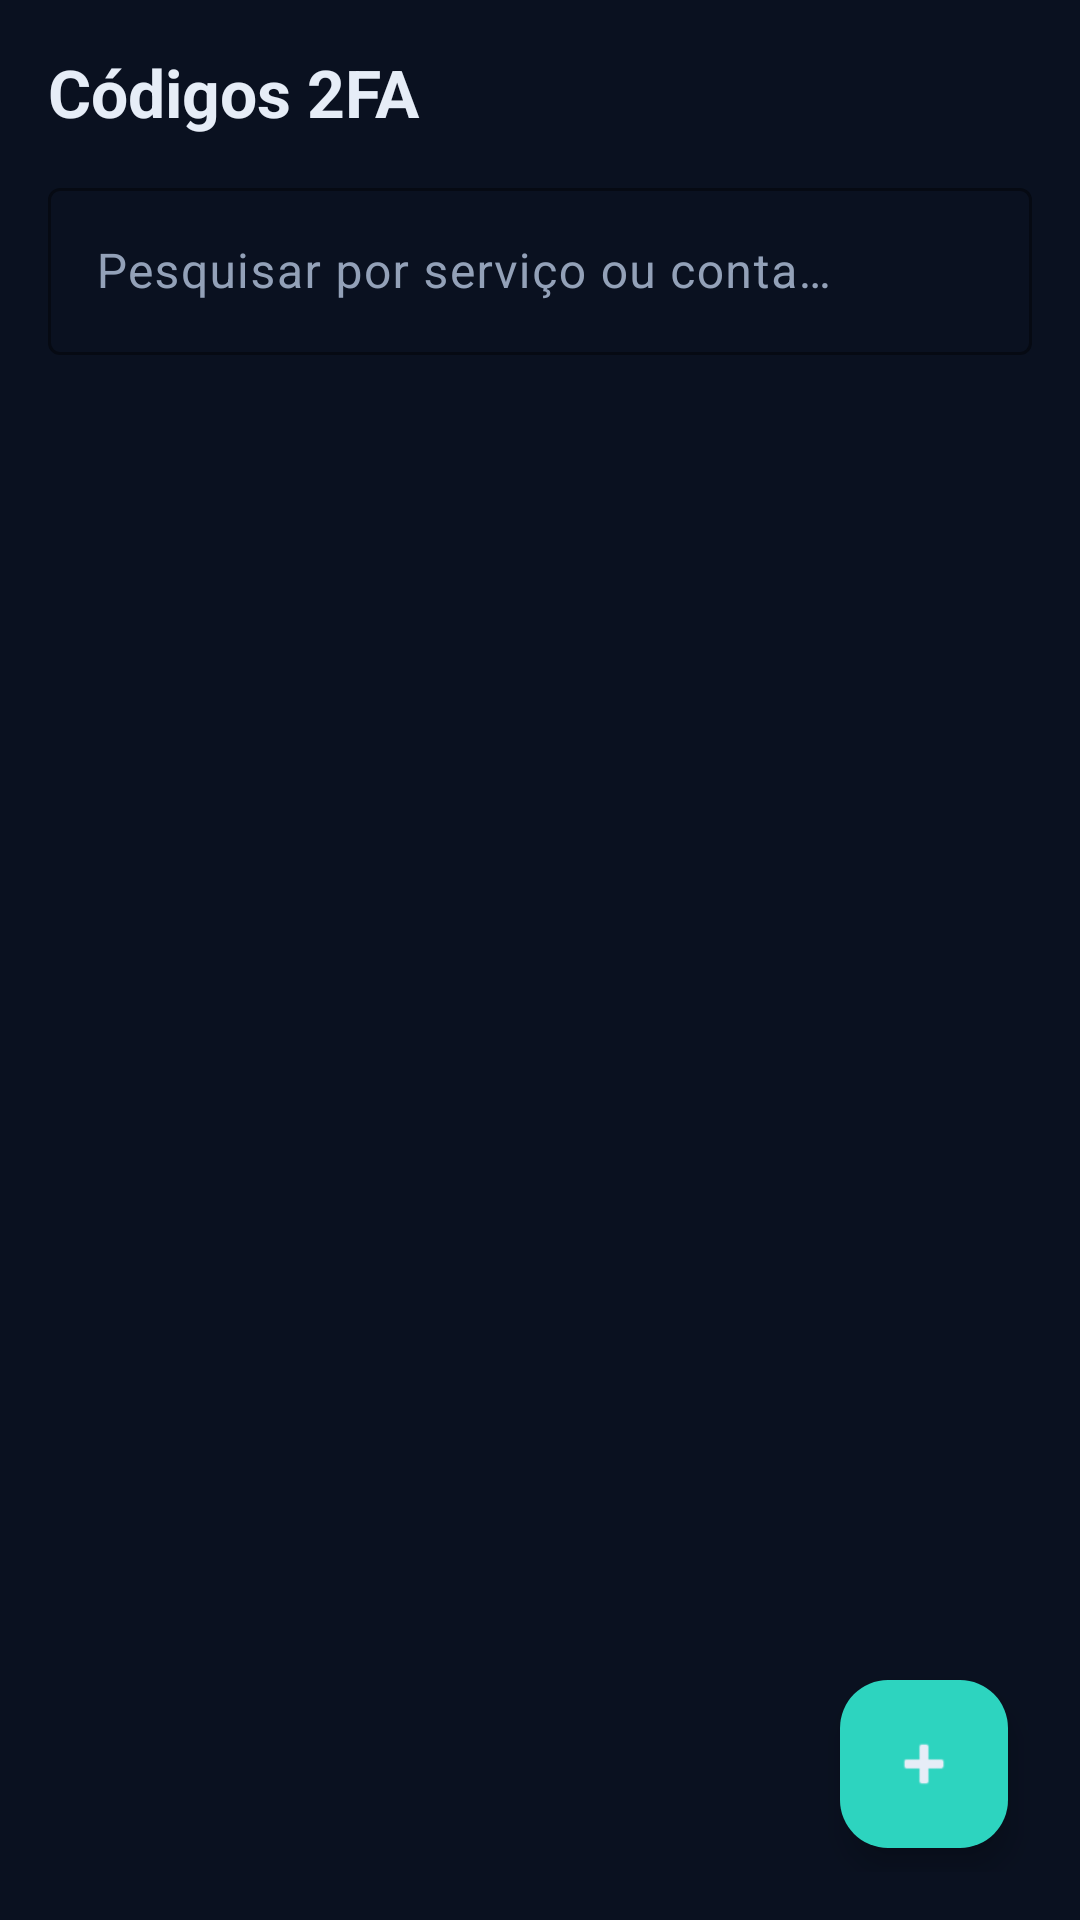

Locate icon controls on the screen. Image size 1080x1920, boxes as (x1, y1, x2, y2).
Nova conta 2FA: (840, 1680, 1008, 1848)
